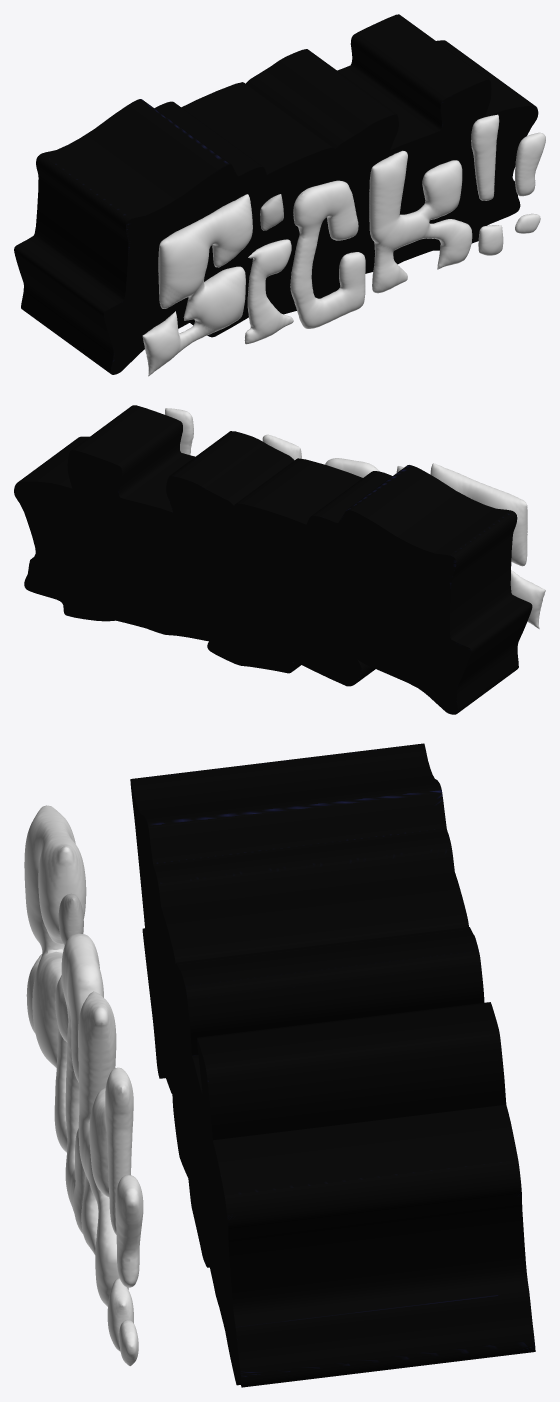
The model's file is sick.glb.
3 views of the same model, one above another, from view 1: azimuth 30°, elevation 25°; view 2: azimuth 150°, elevation 25°; view 3: azimuth 270°, elevation 25° (orthographic). The views are drawn at different scales.
Parts seen in each view (by area): view 1: mesh_id129, mesh_id47, mesh_id69, mesh_id57, mesh_id55, mesh_id71, mesh_id81, mesh_id79, mesh_id51; view 2: mesh_id129, mesh_id47, mesh_id71, mesh_id57, mesh_id69; view 3: mesh_id129, mesh_id47, mesh_id69, mesh_id57, mesh_id71, mesh_id81, mesh_id55, mesh_id79, mesh_id51.
Boxes of the visible parts, x1,y1,x2,y2 form: mesh_id129: (14, 14, 538, 374); mesh_id47: (142, 194, 252, 376); mesh_id69: (369, 150, 472, 293); mesh_id57: (290, 180, 365, 328); mesh_id55: (244, 239, 293, 344); mesh_id71: (471, 114, 499, 200); mesh_id81: (515, 132, 545, 196); mesh_id79: (478, 225, 503, 255); mesh_id51: (260, 194, 283, 230); mesh_id129: (14, 405, 532, 714); mesh_id47: (430, 463, 545, 629); mesh_id71: (165, 408, 193, 454); mesh_id57: (325, 458, 379, 477); mesh_id69: (262, 434, 301, 460); mesh_id129: (130, 743, 535, 1387); mesh_id47: (24, 805, 86, 1067); mesh_id69: (78, 991, 128, 1306); mesh_id57: (61, 933, 103, 1233); mesh_id71: (105, 1067, 133, 1234); mesh_id81: (115, 1175, 143, 1287); mesh_id55: (54, 975, 68, 1152); mesh_id79: (107, 1278, 133, 1351); mesh_id51: (58, 893, 83, 945).
Bounding box in the file's own units: 0.3499 × 0.1456 × 0.1726.
Materials: 10 (10 with a texture image).
